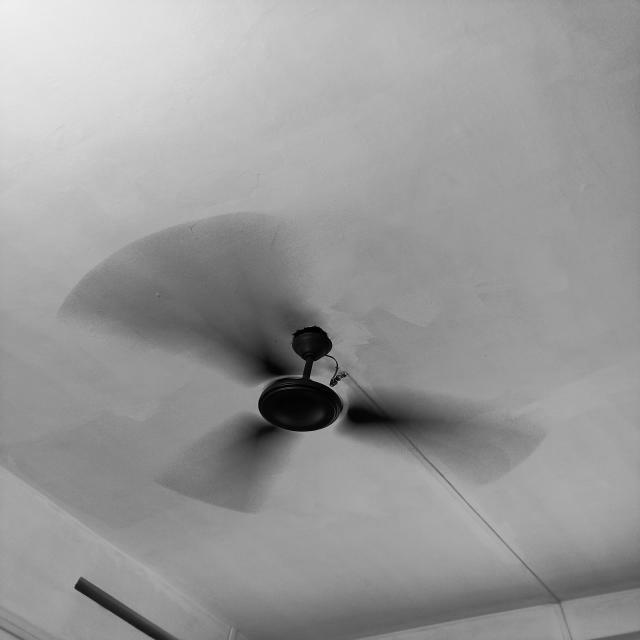fan: (48, 217, 548, 519)
light: (257, 325, 346, 432)
